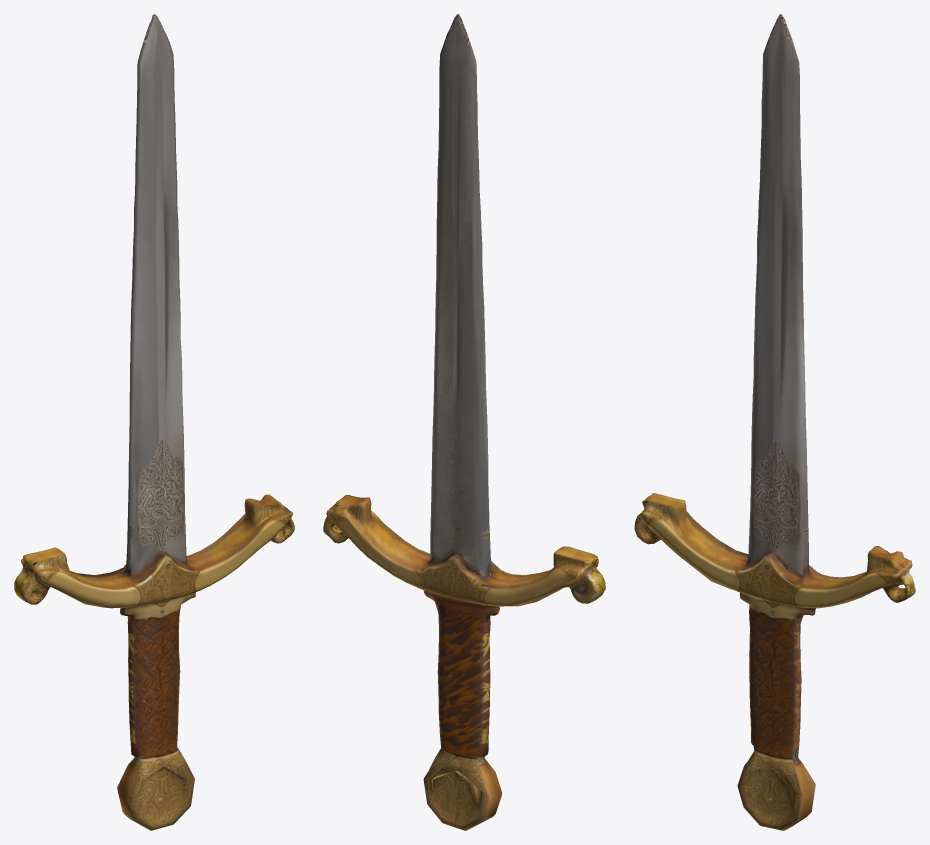
Rendered from Cat_Sword_Art_0526133702_texture.fbx.
3 views of the same model, side by side, from view 1: azimuth 30°, elevation 25°; view 2: azimuth 150°, elevation 25°; view 3: azimuth 330°, elevation 25° (orthographic).
Parts seen in each view (by area): view 1: input; view 2: input; view 3: input.
Part boxes in pixels (box(x1,y1,x2,y2)): input: box(14, 14, 294, 830); input: box(323, 14, 605, 830); input: box(634, 14, 915, 830).
Bounding box in the file's own units: 70.48 × 199 × 9.78.
Materials: 1 (1 with a texture image).
